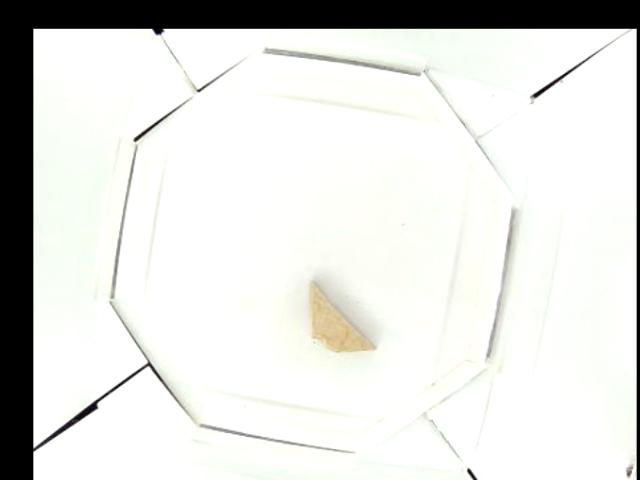China: (308, 277, 373, 353)
